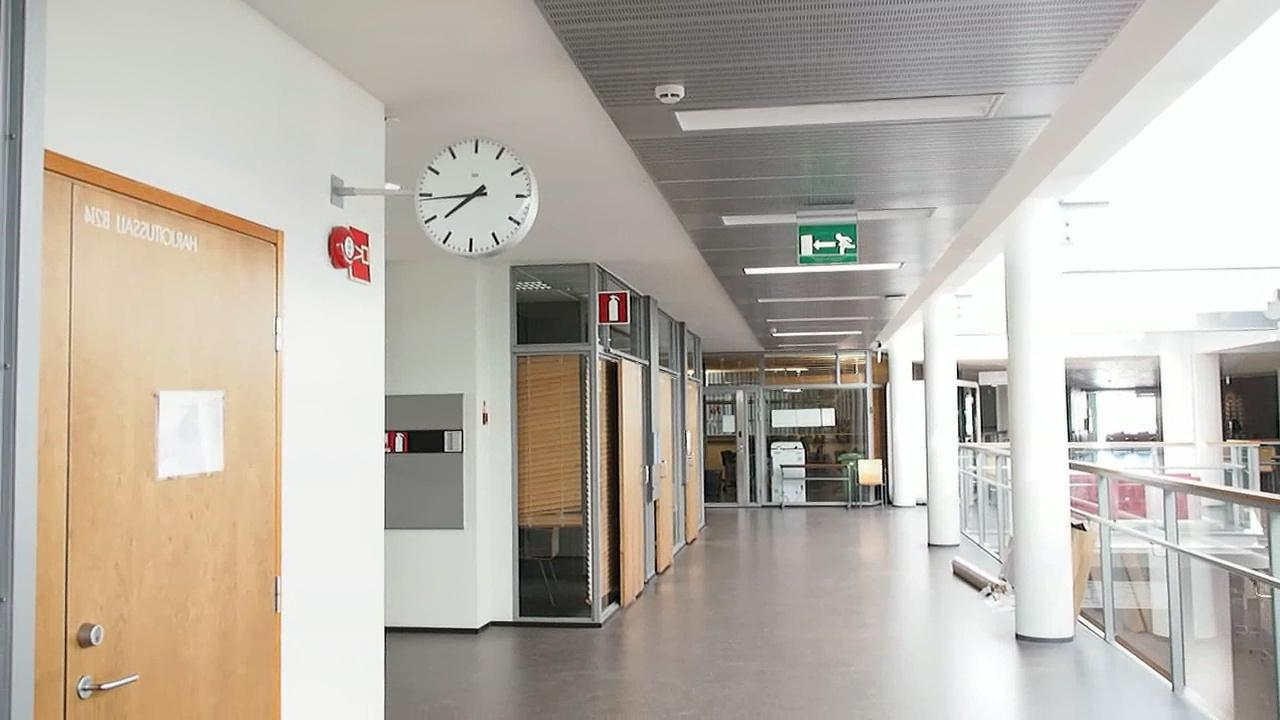clock: (407, 131, 541, 256)
exit: (799, 220, 866, 265)
